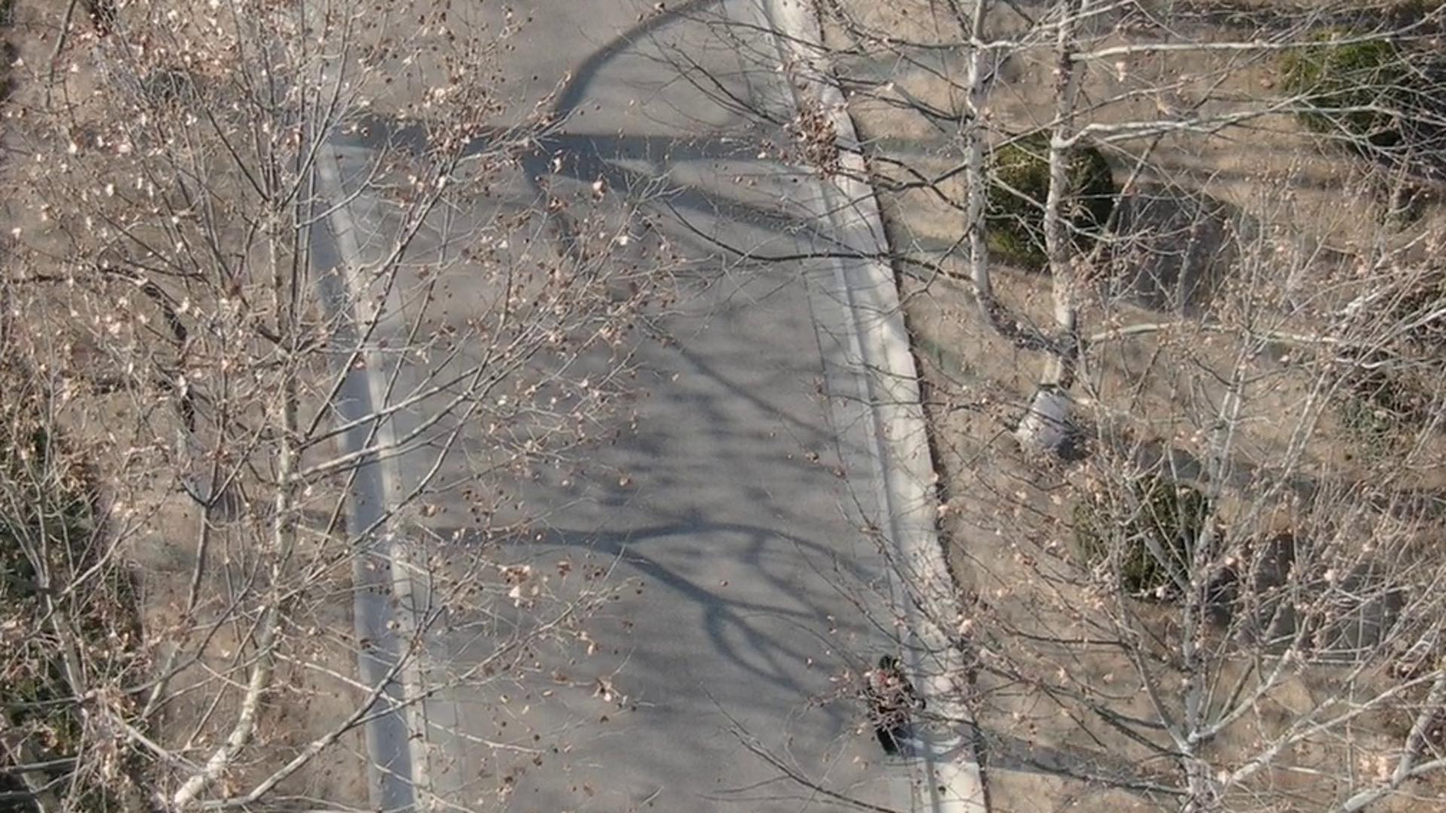human: (870, 647, 914, 752)
